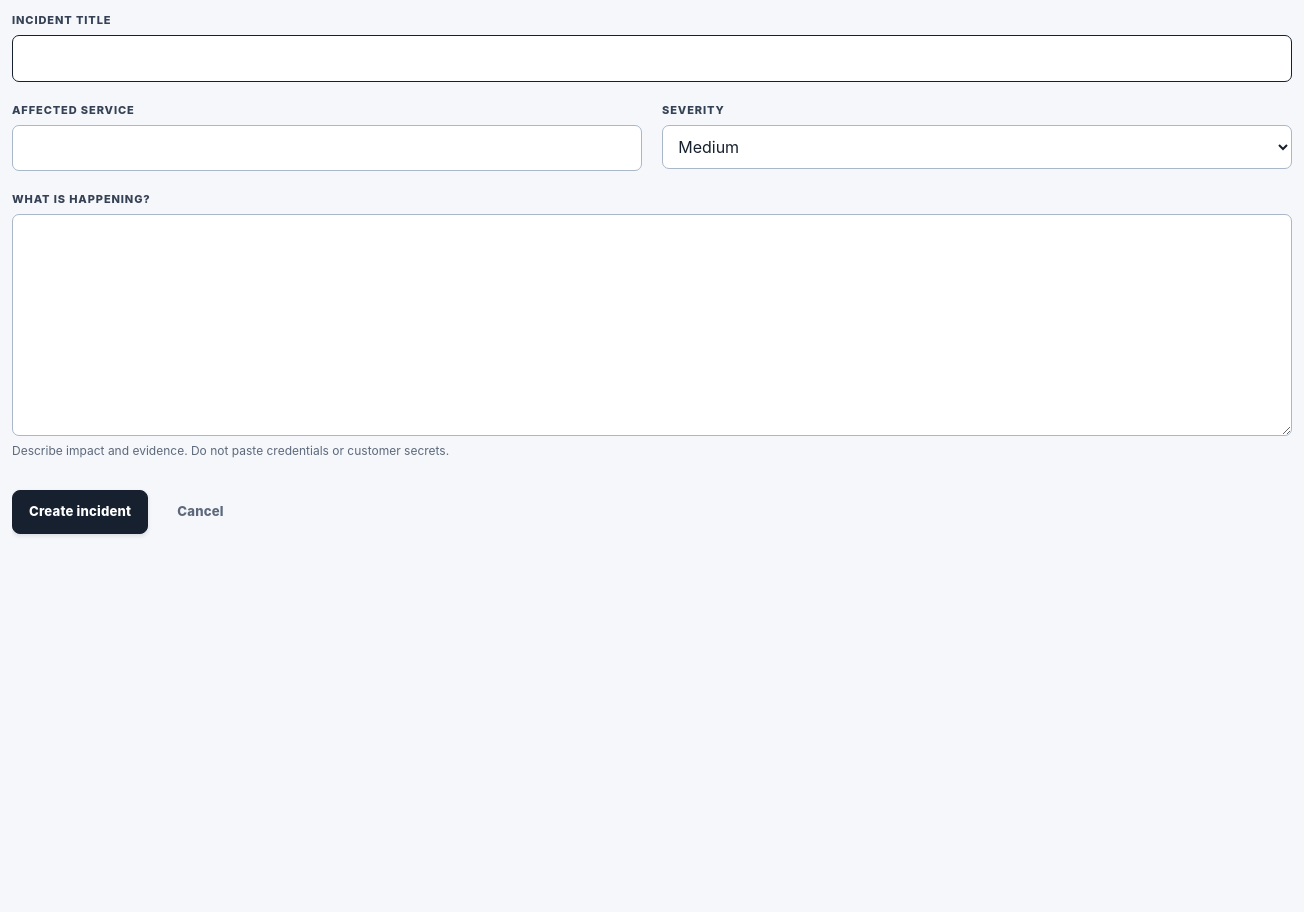
Scenario: IncidentForm › preserves every draft field when backend validation fails
This screenshot has width=1304, height=912.
Type "Checkout is slow" into the field labelled "Incident title" at (652, 58), box [12,35,1292,82]
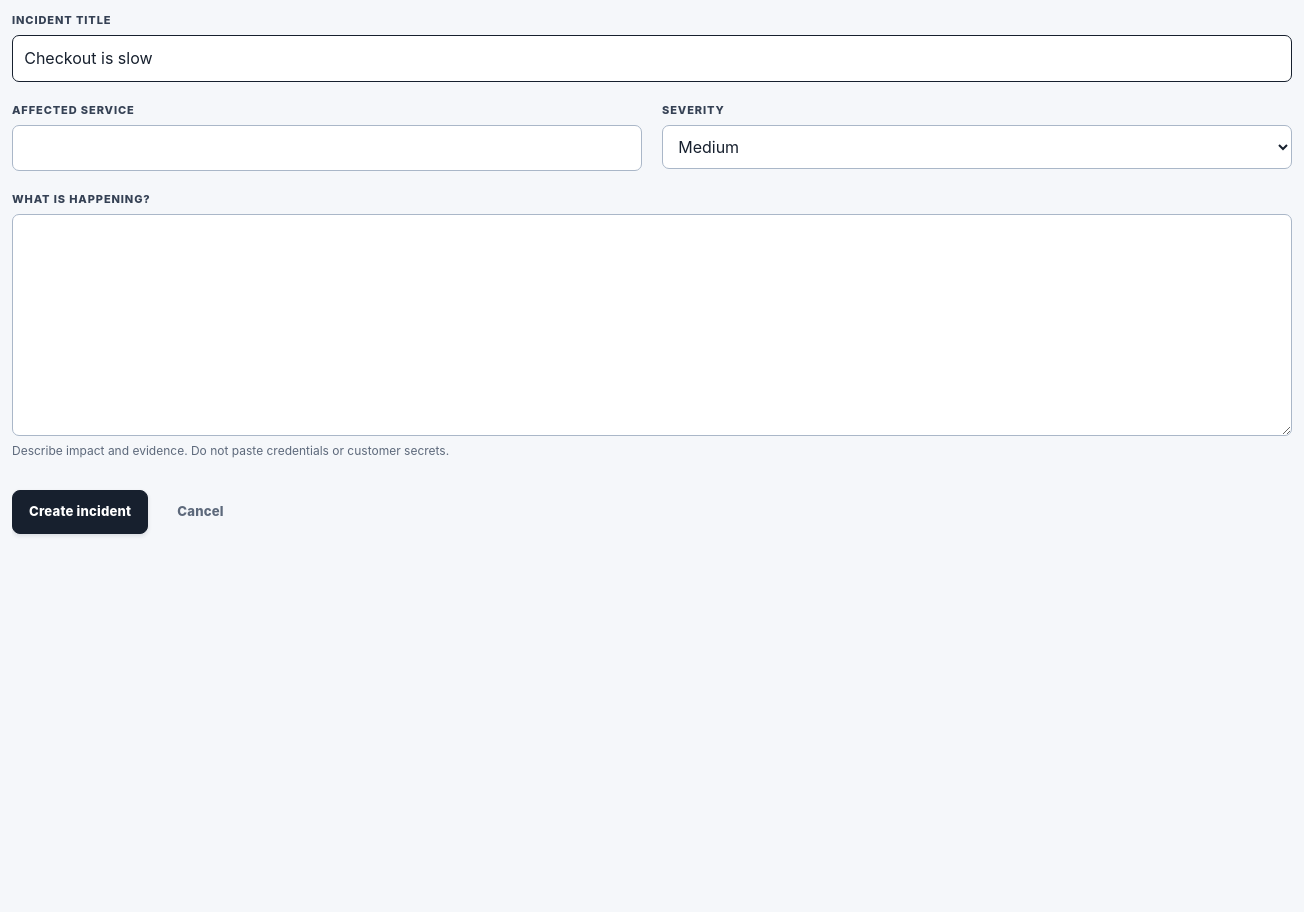
Type "checkout" into the field labelled "Affected service" at (327, 148), box [12,125,642,172]
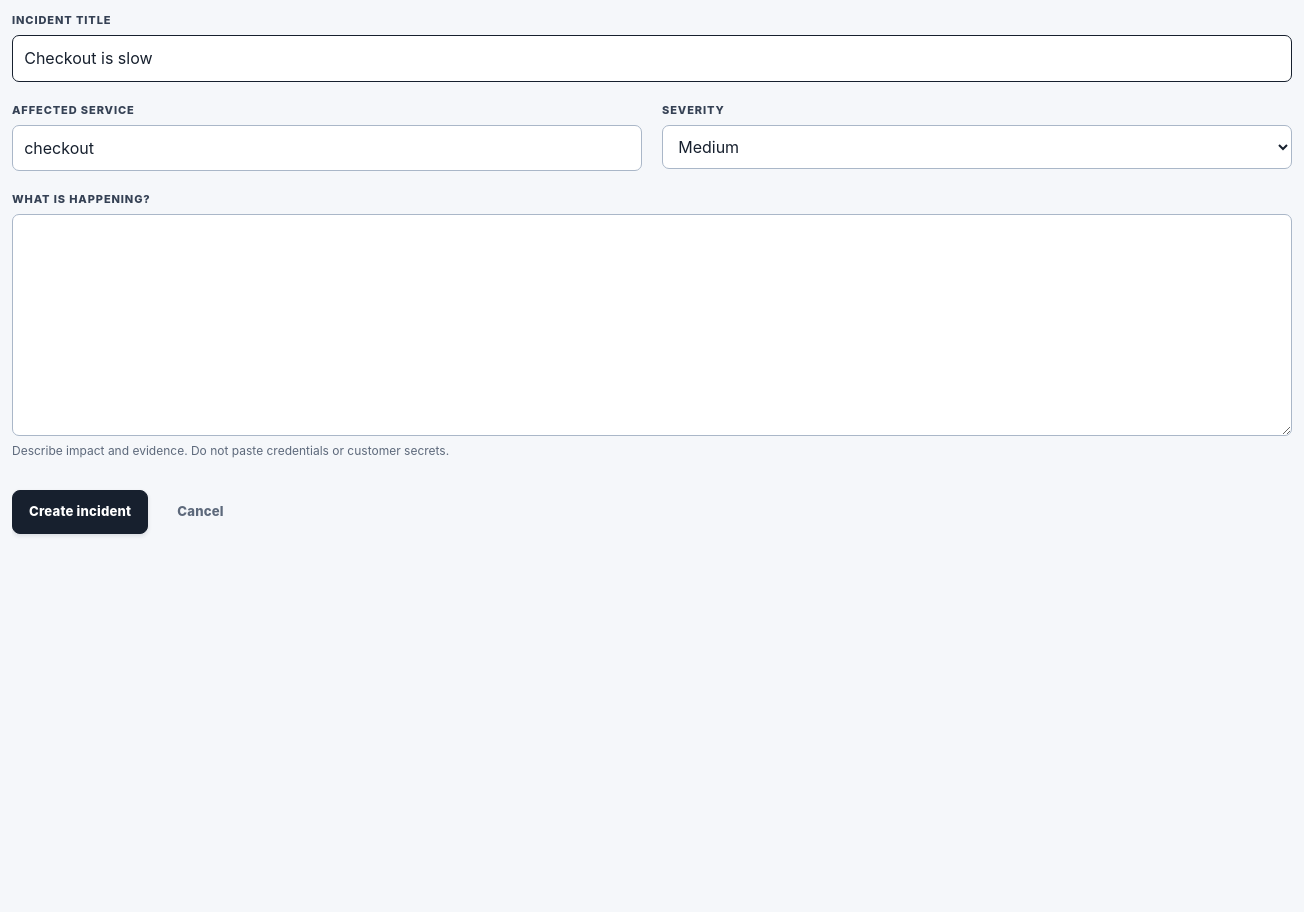
Type "Customer requests are timing out." into the text box labelled "What is happening?" at (652, 325), box [12,214,1292,436]
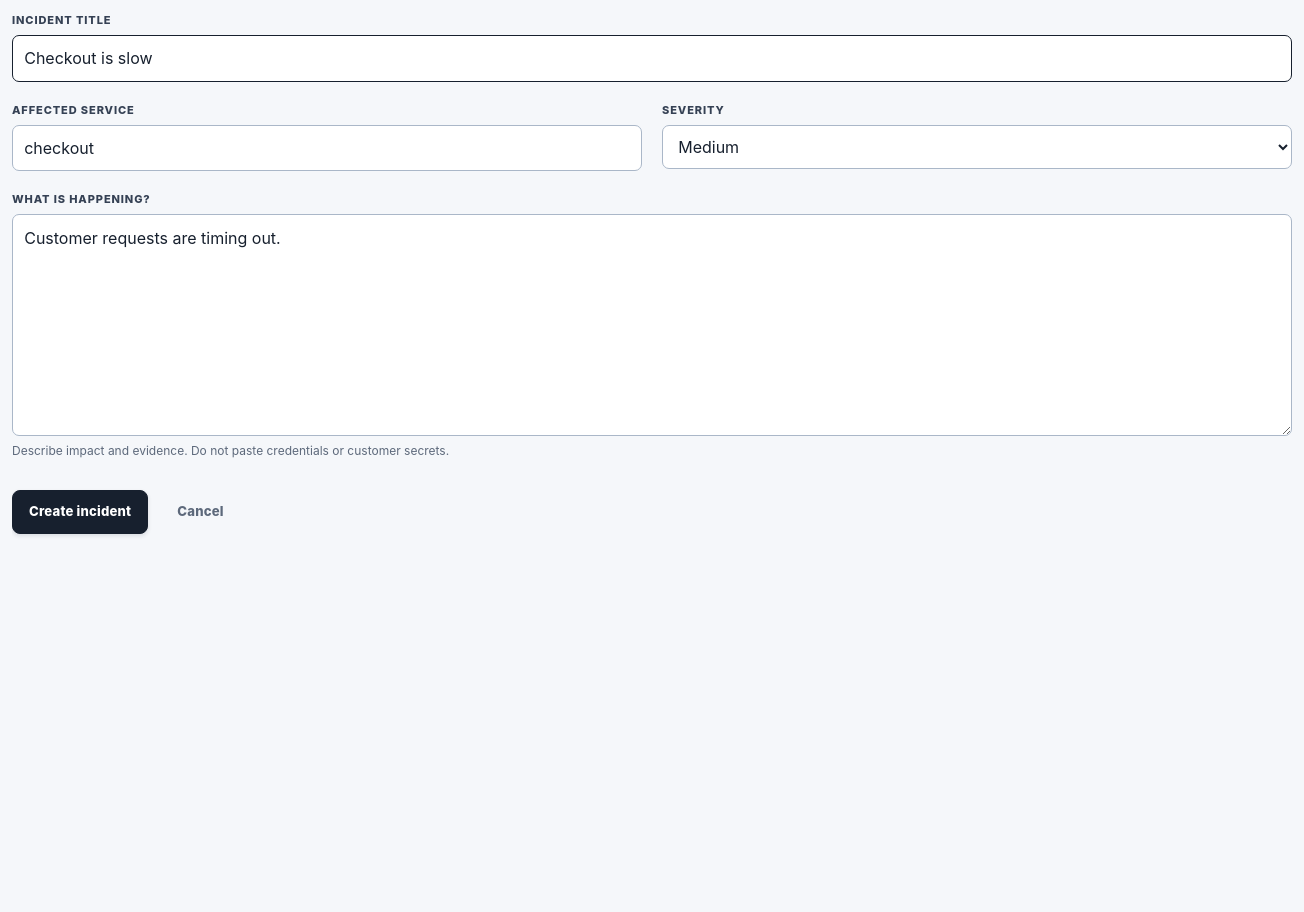
Select "High" in the dropdown labelled "Severity" at (977, 147), box [662,125,1292,170]
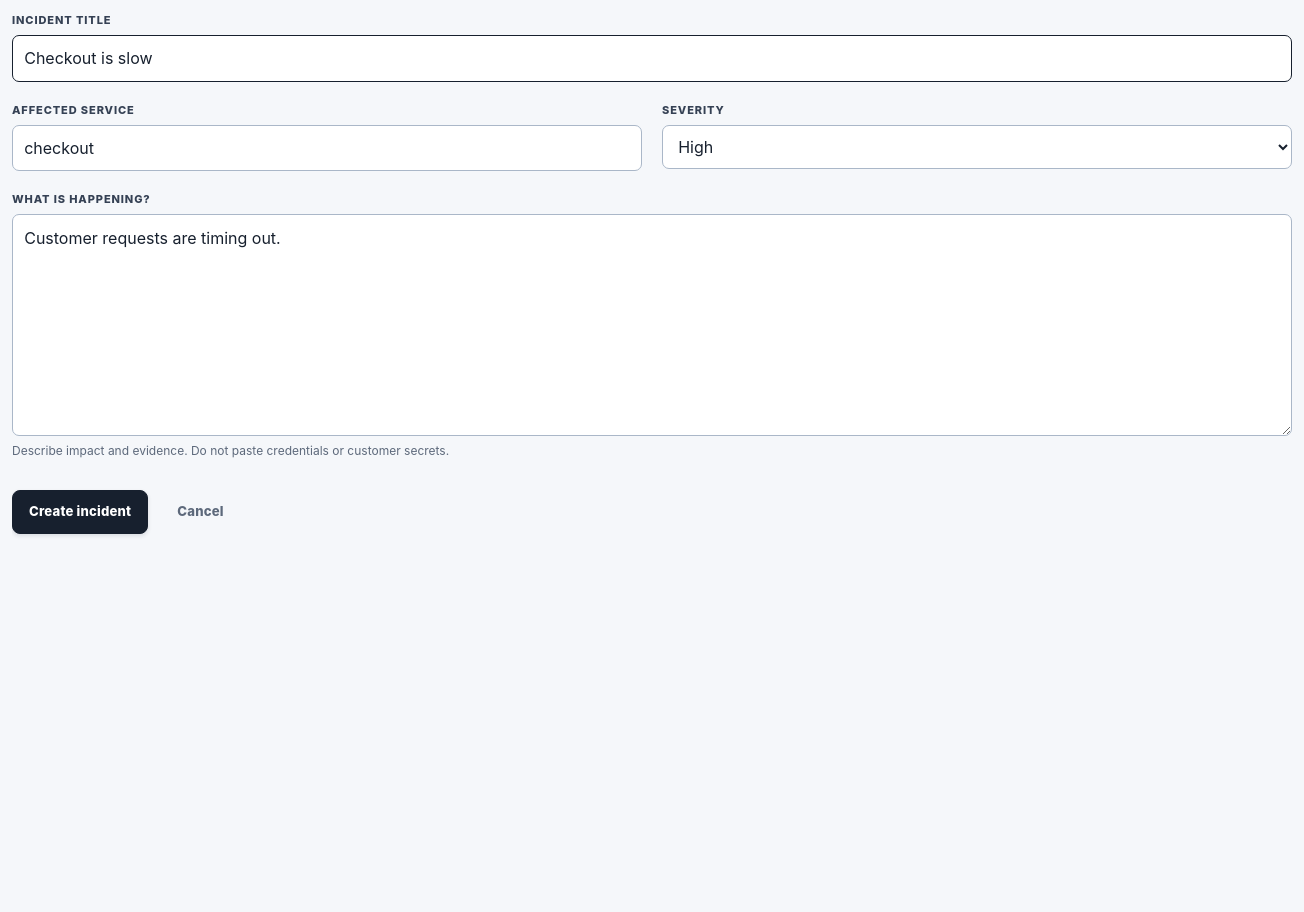
Click the button "Create incident" at (80, 512), box [12,490,148,534]
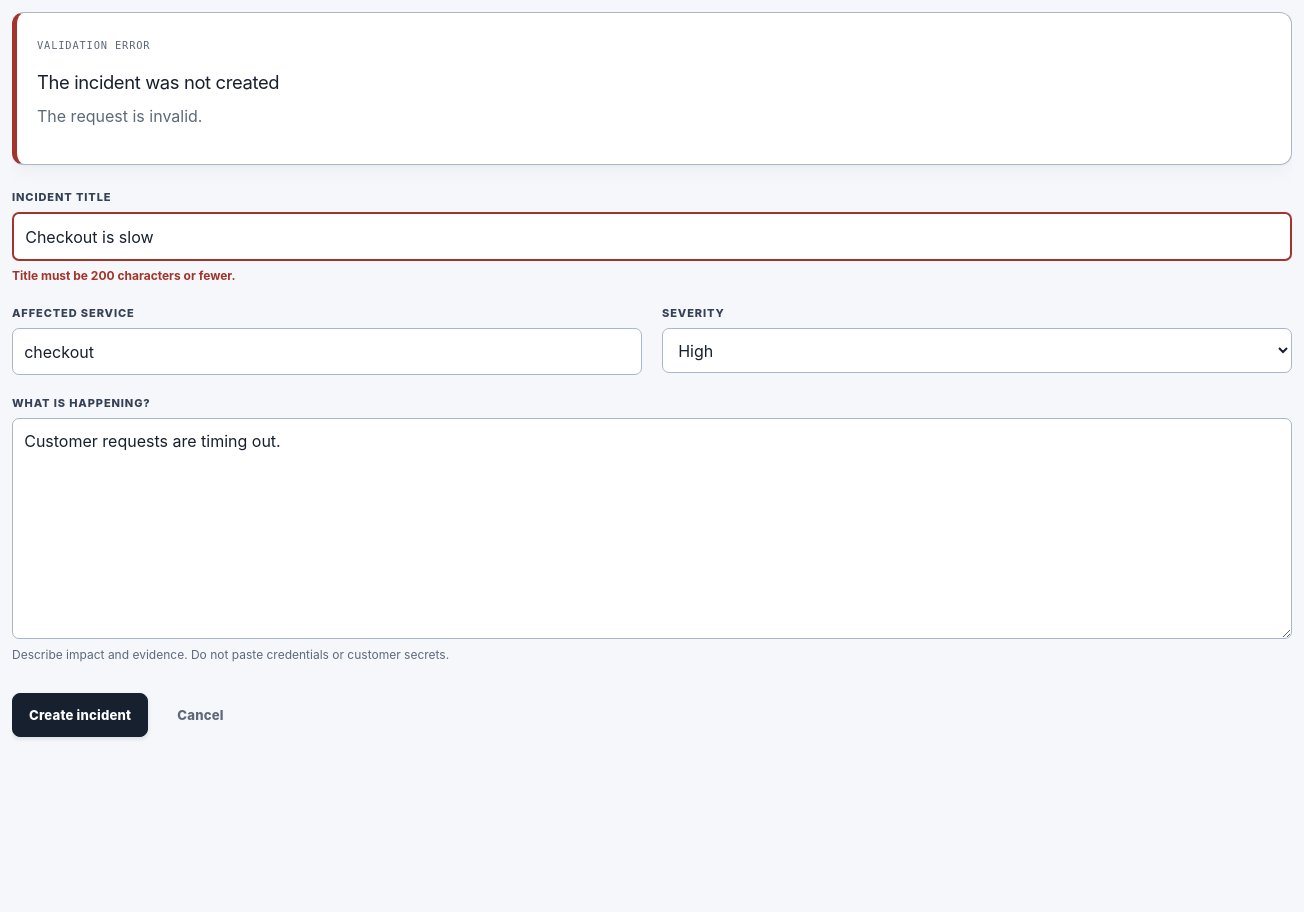
Expected: the text "Title must be 200 characters or fewer." is shown, [12,268,236,283]
